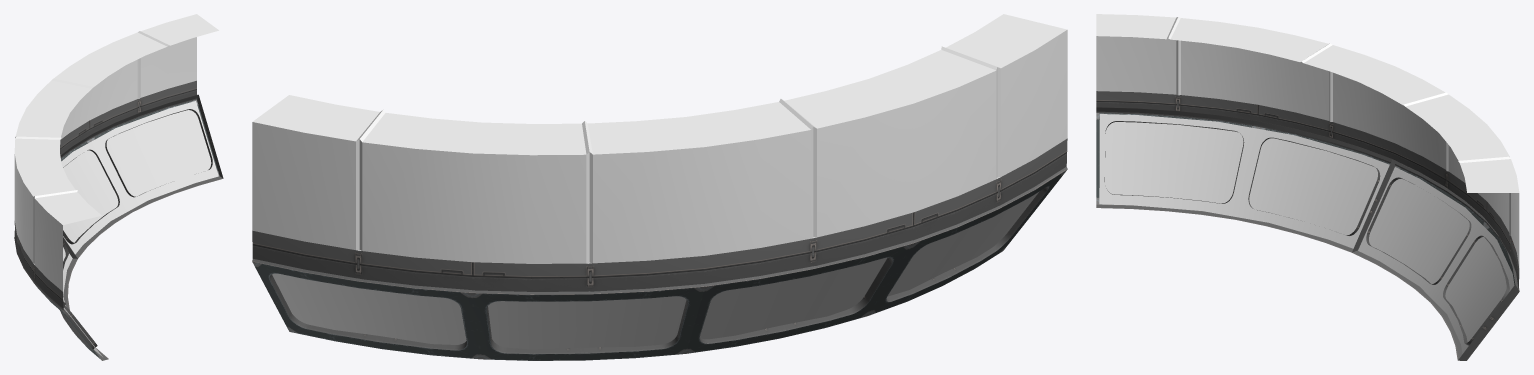
File: top_window_corner_curve_outer.glb
The picture shows the model from 3 angles, left to right: view 1: azimuth 30°, elevation 25°; view 2: azimuth 150°, elevation 25°; view 3: azimuth 270°, elevation 25°; orthographic projection. The views are drawn at different scales.
Visible parts, largest first — view 1: TopWindow_Corner_Curve_Outer; view 2: TopWindow_Corner_Curve_Outer; view 3: TopWindow_Corner_Curve_Outer.
Part boxes in pixels (x1=…): TopWindow_Corner_Curve_Outer: x1=14, y1=14, x2=223, y2=360; TopWindow_Corner_Curve_Outer: x1=252, y1=14, x2=1067, y2=360; TopWindow_Corner_Curve_Outer: x1=1096, y1=14, x2=1519, y2=360.
Size of the model in its own units: 4.57 by 2.02 by 4.57.
Materials: 4 (2 with a texture image).
